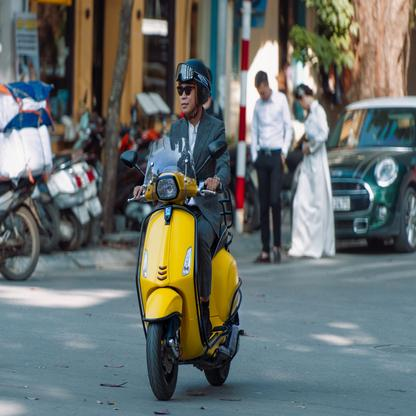target: (120, 57, 249, 401)
